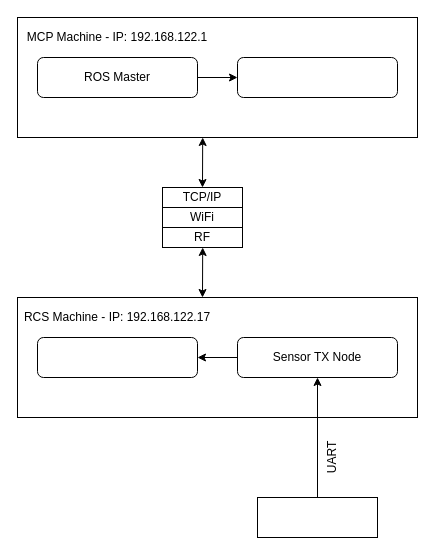
Image size: 435x555. Some labels were removed from this diagram. Here are the shapes that lost their labels. From the top down, the centre of each, then its label:
At (x=317, y=77): "Sensor RX Node".
At (x=117, y=357): "ROS V-Master".
At (x=317, y=517): "Microcontroller".
